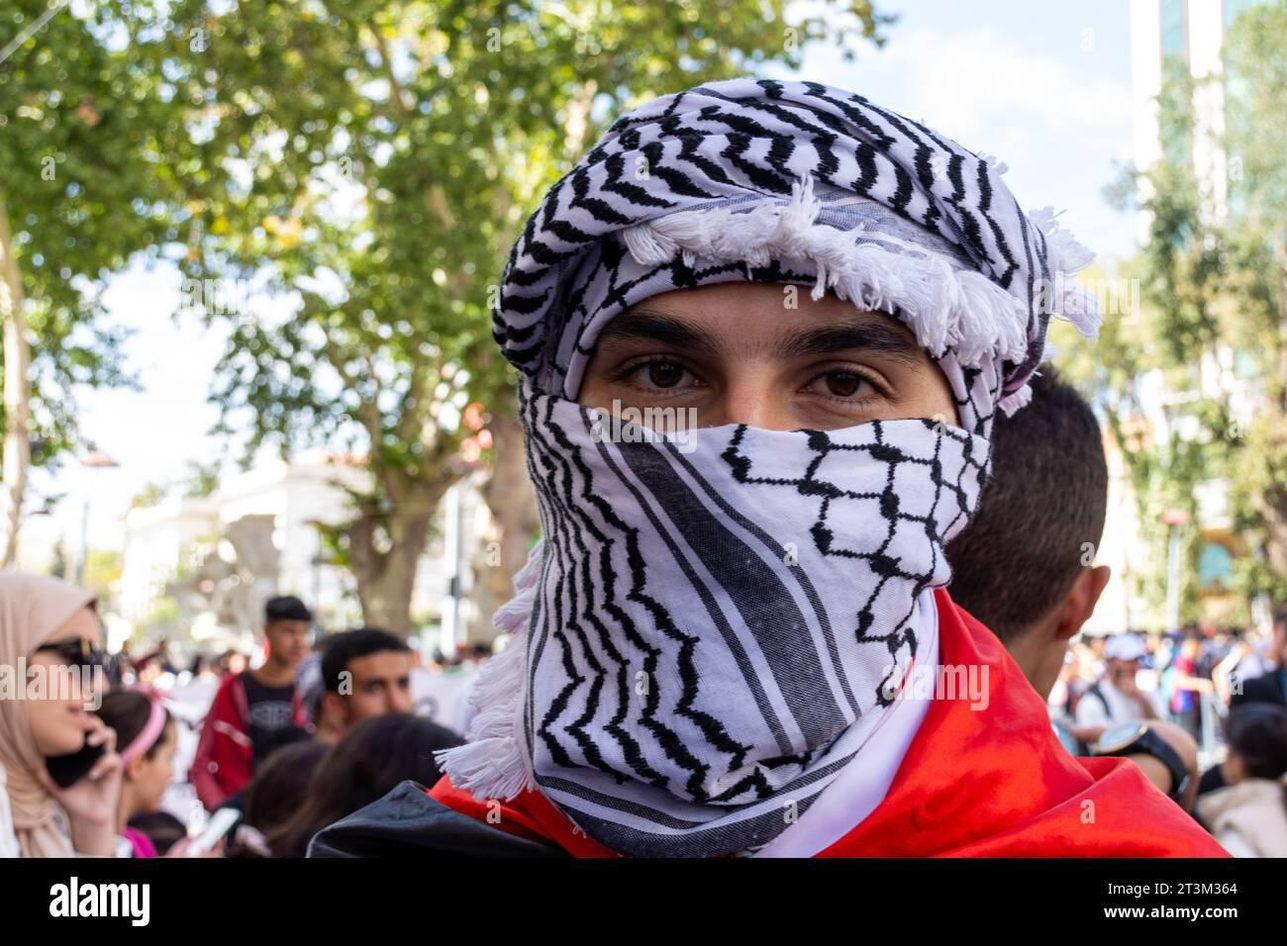scarf-kerchief: (463, 49, 1069, 865)
